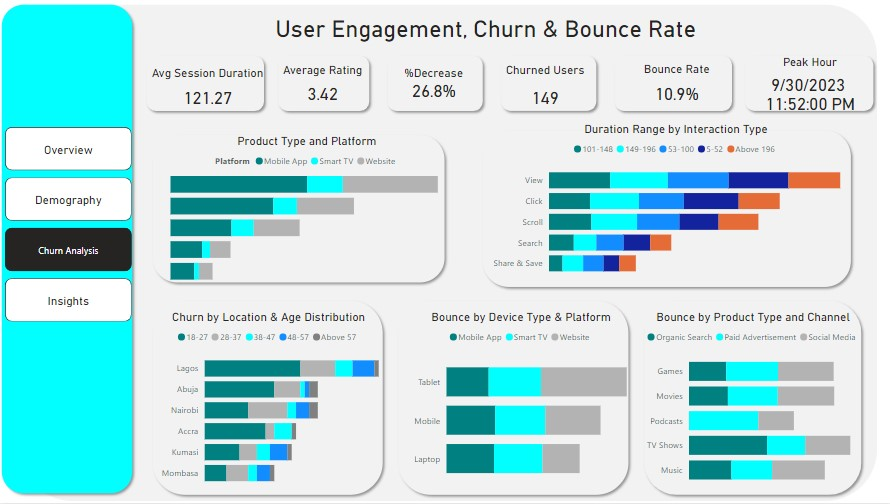

What the dashboard file says about the page in this screenshot:
{"tool":"powerbi","page":{"name":"Churn Analysis","canvas":[1280,720],"ordinal":3},"visuals":[{"type":"card","title":"Avg Session Duration","fields":{"Values":["Measures Table.Average Session Duration"]},"box":[211.2,96.4,175.7,70.9],"z":0},{"type":"card","title":"Average Rating","fields":{"Values":["Measures Table.Average Rating"]},"box":[386.9,92.1,153.1,69.4],"z":1000},{"type":"card","title":"Churned Users","fields":{"Values":["Measures Table.Churned Users"]},"box":[704.4,92.1,154.5,79.4],"z":2000},{"type":"card","title":"Bounce Rate","fields":{"Values":["Measures Table.Bounce Rate"]},"box":[901.4,89.3,136.1,70.9],"z":3000},{"type":"textbox","box":[299.1,18.4,796.5,78],"z":4000},{"type":"card","title":"%Decrease","fields":{"Values":["Measures Table.Percentage Decrease"]},"box":[564.1,96.4,116.2,51],"z":5000},{"type":"card","title":"Peak Hour","fields":{"Values":["Measures Table.PeakHour"]},"box":[1068.6,80,182.9,91.4],"z":6000},{"type":"barChart","title":"Product Type and Platform","fields":{"Category":["session_data 2.Product Type"],"Y":["Measures Table.Total Sessions"],"Series":["session_data 2.Platform"]},"box":[240.9,192.8,399.7,214],"z":7000},{"type":"barChart","title":"Duration Range by Interaction Type","fields":{"Y":["Measures Table.Total Sessions"],"Category":["session_data 2.Interaction Type"],"Series":["session_data 2.Duration Range"]},"box":[697.3,175.7,542.8,231],"z":8000},{"type":"barChart","title":"Churn by Location & Age Distribution","fields":{"Y":["Measures Table.Churned Users"],"Series":["user_profile_data 2.Age Distribution"],"Category":["user_profile_data 2.Location"]},"box":[223.9,443.6,324.6,262.2],"z":9000},{"type":"barChart","title":"Bounce by Device Type & Platform","fields":{"Y":["Measures Table.Bounce Rate"],"Series":["session_data 2.Platform"],"Category":["session_data 2.DeviceType"]},"box":[585.4,443.6,323.1,262.2],"z":10000},{"type":"barChart","title":"Bounce by Product Type and Channel","fields":{"Y":["Measures Table.Bounce Rate"],"Series":["session_data 2.Channel"],"Category":["session_data 2.Product Type"]},"box":[917,443.6,323.1,262.2],"z":11000},{"type":"pageNavigator","box":[9.9,182.8,181.4,280.6],"z":12000}]}

Visuals, with their boxes on the page's 1280x720 design canvas (x1, y1, x2, y2). These are canvas units, not pixel positions in the 890x504 screenshot, which may show the page scaled, cropped or inside an application window:
"Avg Session Duration" card: x1=211, y1=96, x2=387, y2=167
"Average Rating" card: x1=387, y1=92, x2=540, y2=162
"Churned Users" card: x1=704, y1=92, x2=859, y2=172
"Bounce Rate" card: x1=901, y1=89, x2=1038, y2=160
textbox: x1=299, y1=18, x2=1096, y2=96
"%Decrease" card: x1=564, y1=96, x2=680, y2=147
"Peak Hour" card: x1=1069, y1=80, x2=1252, y2=171
"Product Type and Platform" barChart: x1=241, y1=193, x2=641, y2=407
"Duration Range by Interaction Type" barChart: x1=697, y1=176, x2=1240, y2=407
"Churn by Location & Age Distribution" barChart: x1=224, y1=444, x2=548, y2=706
"Bounce by Device Type & Platform" barChart: x1=585, y1=444, x2=908, y2=706
"Bounce by Product Type and Channel" barChart: x1=917, y1=444, x2=1240, y2=706
pageNavigator: x1=10, y1=183, x2=191, y2=463
